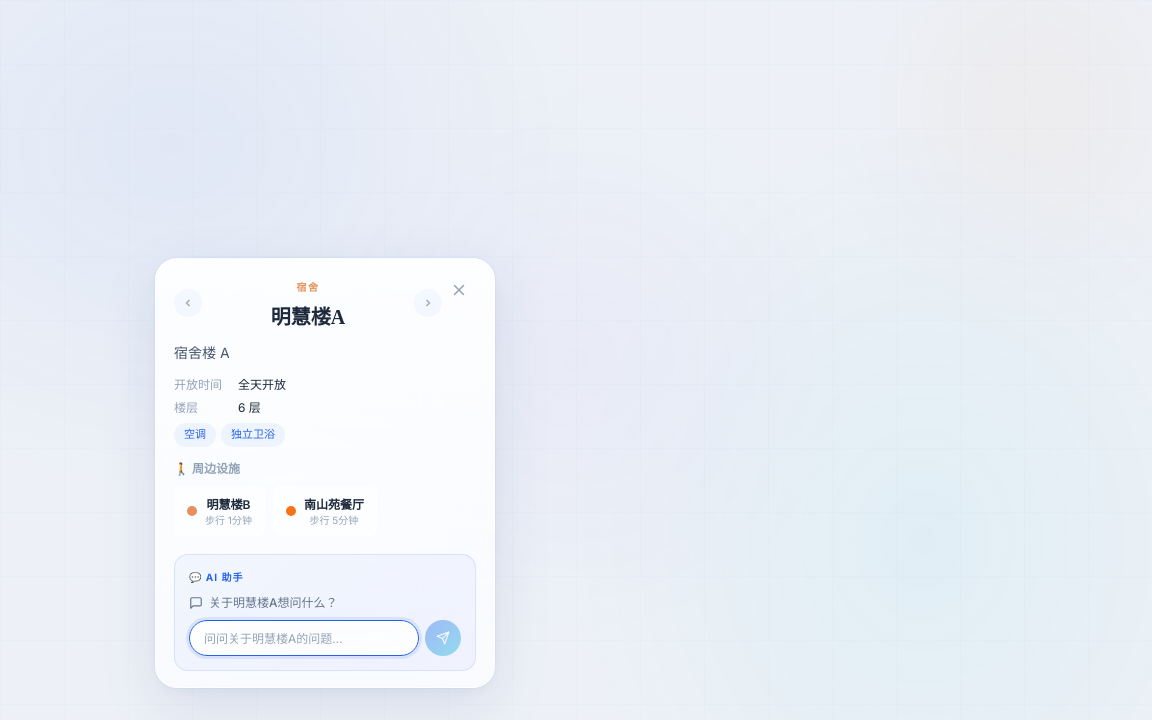
Test: BuildingPopover › 内嵌问答：发送问题显示用户消息与 AI 回复
Type "几点关门" into the field with placeholder "问问关于明慧楼A的问题…" at [304, 638], box [189,620,419,656]
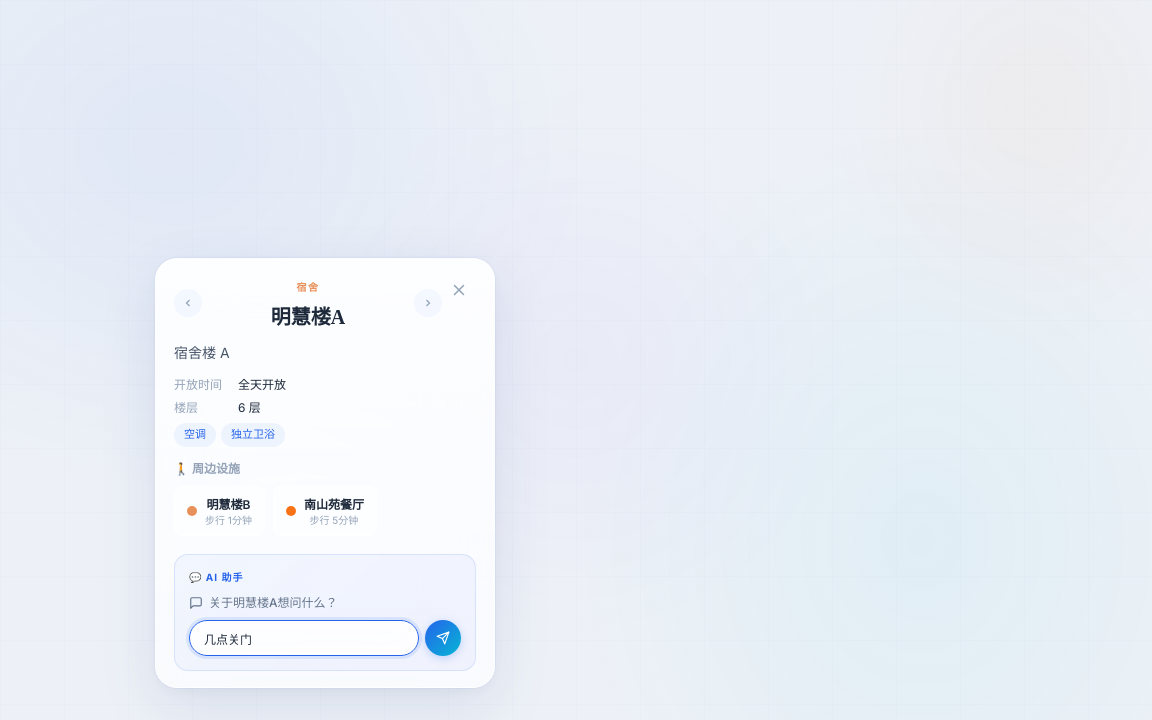
Click the button named "发送" at [443, 638], box [425,620,461,656]
(page scrolled)
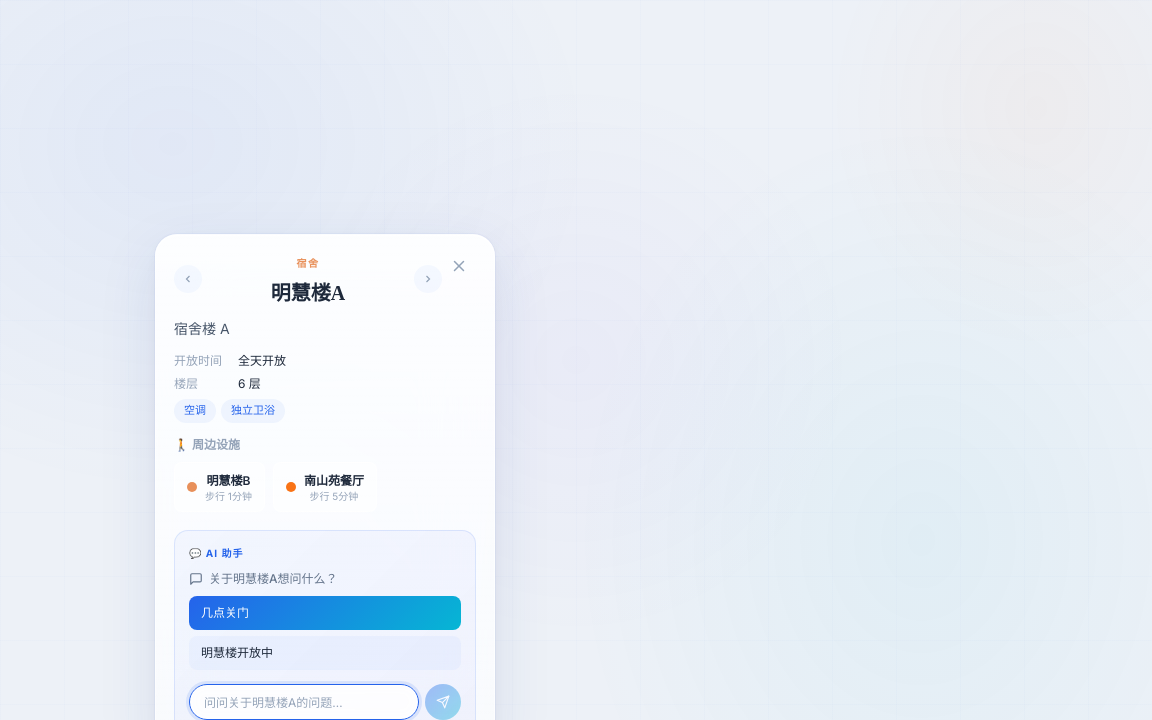
Check: the text "几点关门" is shown, box [189,596,461,630]
Check: the text "明慧楼开放中" is shown, box [201,645,273,660]
